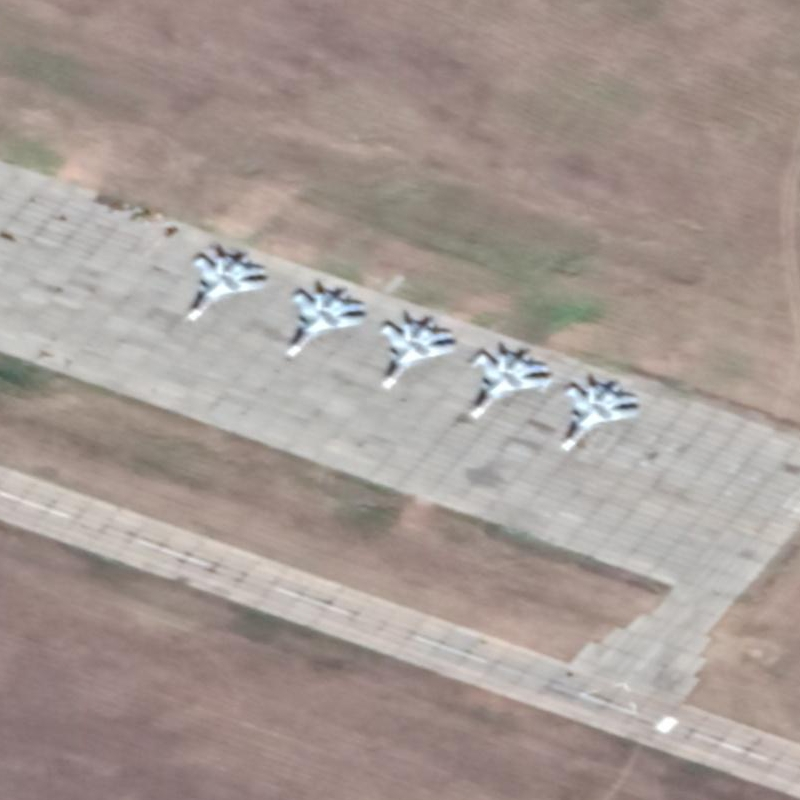A19: (465, 347, 556, 420), (556, 380, 642, 455), (376, 315, 459, 392), (283, 287, 369, 361), (182, 251, 269, 324)
